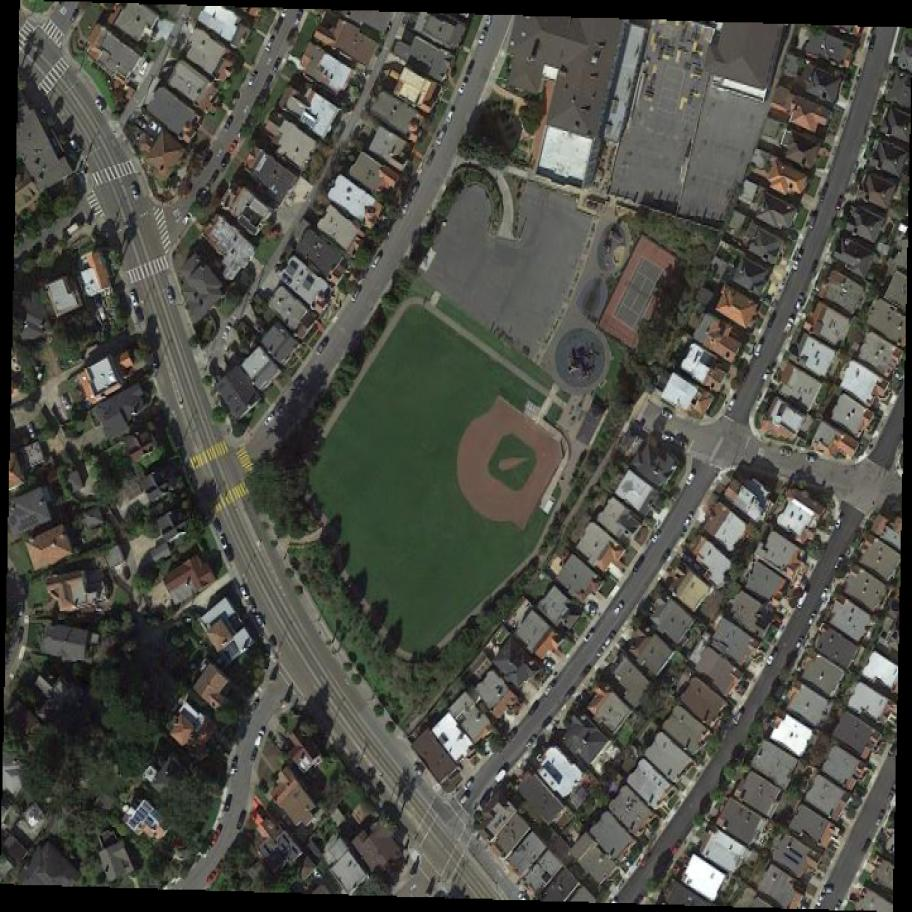small-vehicle: (208, 827, 224, 846), (127, 179, 142, 199), (792, 250, 805, 273), (92, 92, 106, 113), (204, 869, 220, 887), (456, 77, 470, 96), (673, 435, 690, 450), (252, 729, 266, 747), (434, 128, 448, 146), (661, 407, 677, 422), (784, 316, 797, 334), (633, 556, 646, 574), (796, 591, 809, 609), (60, 393, 72, 412), (835, 194, 847, 213), (760, 367, 774, 383), (349, 287, 362, 304), (834, 514, 846, 532), (245, 599, 259, 614), (69, 137, 82, 153), (807, 212, 819, 229), (819, 186, 831, 203), (821, 586, 833, 603), (794, 294, 806, 311), (612, 601, 626, 615), (504, 730, 518, 744), (525, 735, 538, 750), (316, 340, 329, 355), (198, 184, 211, 199), (371, 253, 383, 269), (227, 140, 239, 156), (167, 285, 177, 304), (400, 201, 411, 218), (651, 529, 664, 543), (579, 666, 592, 680), (26, 422, 36, 440), (660, 429, 675, 441), (265, 36, 277, 51), (255, 614, 267, 629), (528, 702, 540, 717), (129, 291, 140, 307), (409, 182, 420, 198), (211, 168, 222, 184), (457, 793, 470, 806), (264, 413, 277, 426), (181, 212, 194, 225), (595, 645, 607, 659), (223, 548, 235, 562), (585, 629, 596, 644), (544, 682, 555, 697), (767, 650, 778, 665), (795, 636, 806, 651), (212, 520, 223, 535), (224, 796, 233, 814), (236, 813, 246, 829), (411, 763, 423, 776), (806, 614, 817, 628), (221, 324, 231, 339), (248, 72, 258, 87), (803, 453, 818, 463), (463, 779, 475, 791), (477, 30, 486, 46), (230, 759, 239, 775), (542, 660, 555, 671), (683, 513, 694, 526), (271, 60, 282, 73), (223, 118, 234, 131), (605, 633, 615, 647), (219, 535, 229, 549), (445, 108, 455, 122), (754, 344, 764, 358), (685, 472, 695, 486), (822, 884, 836, 894), (728, 396, 737, 411), (239, 586, 249, 599), (817, 893, 827, 906), (565, 687, 575, 700), (250, 748, 259, 762), (221, 153, 230, 167), (780, 449, 793, 457)
